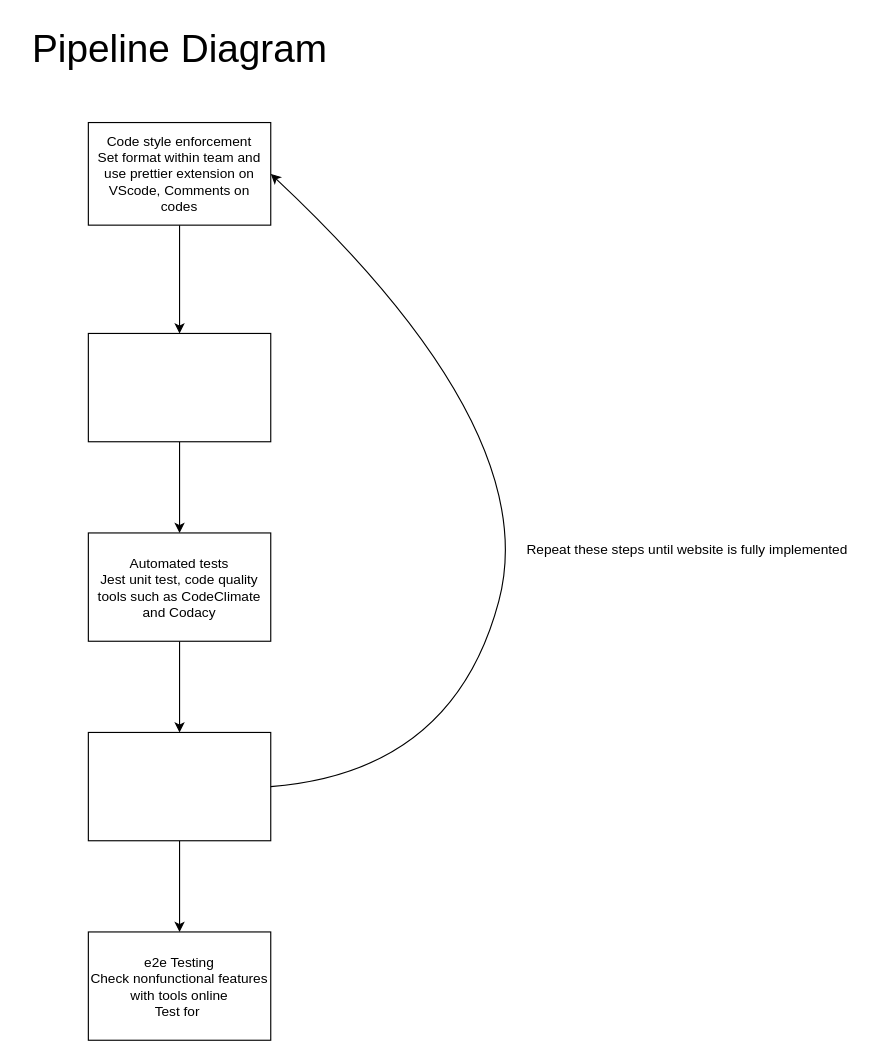
This 877x1060 diagram has some shape labels left out. Here are the shapes that lost their labels. From the top down, the centre of each, then its label:
At pixel 179 387: "Code review done by team members when performing pull requests".
At pixel 179 786: "Automated documentation generator for code files".
